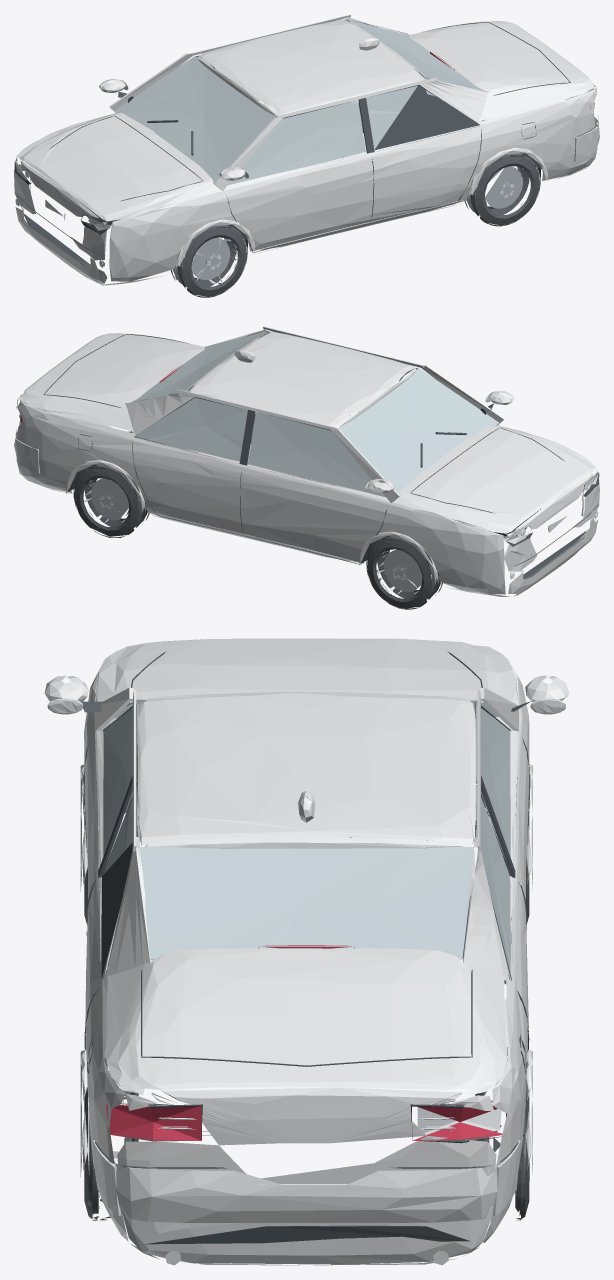
File: modern-sedan.glb
3 renders of one model, top to bottom at view 1: azimuth 30°, elevation 25°; view 2: azimuth 150°, elevation 25°; view 3: azimuth 270°, elevation 25°, orthographic. The views are drawn at different scales.
Parts seen in each view (by area): view 1: paint, glass.001, black.001, rubber.001, steel.001, chrome; view 2: paint, glass.001, rubber.001, black.001, steel.001, chrome; view 3: paint, glass.001, black.001, redlens, chrome, rubber.001.
Part boxes in pixels (left/top/right/bottom): paint: left=14, top=14, right=599, bottom=285; glass.001: left=115, top=19, right=486, bottom=185; black.001: left=14, top=22, right=598, bottom=265; rubber.001: left=78, top=153, right=540, bottom=297; steel.001: left=192, top=166, right=530, bottom=279; chrome: left=20, top=80, right=523, bottom=283; paint: left=14, top=326, right=599, bottom=596; glass.001: left=128, top=331, right=499, bottom=497; rubber.001: left=73, top=465, right=540, bottom=609; black.001: left=15, top=334, right=599, bottom=582; steel.001: left=83, top=478, right=421, bottom=591; chrome: left=83, top=392, right=592, bottom=595; paint: left=44, top=638, right=569, bottom=1265; glass.001: left=103, top=699, right=510, bottom=979; black.001: left=81, top=651, right=531, bottom=1244; redlens: left=106, top=945, right=502, bottom=1141; chrome: left=47, top=698, right=565, bottom=1265; rubber.001: left=84, top=777, right=529, bottom=1220.
Size of the model in its own units: 4.83 by 1.54 by 2.18.
